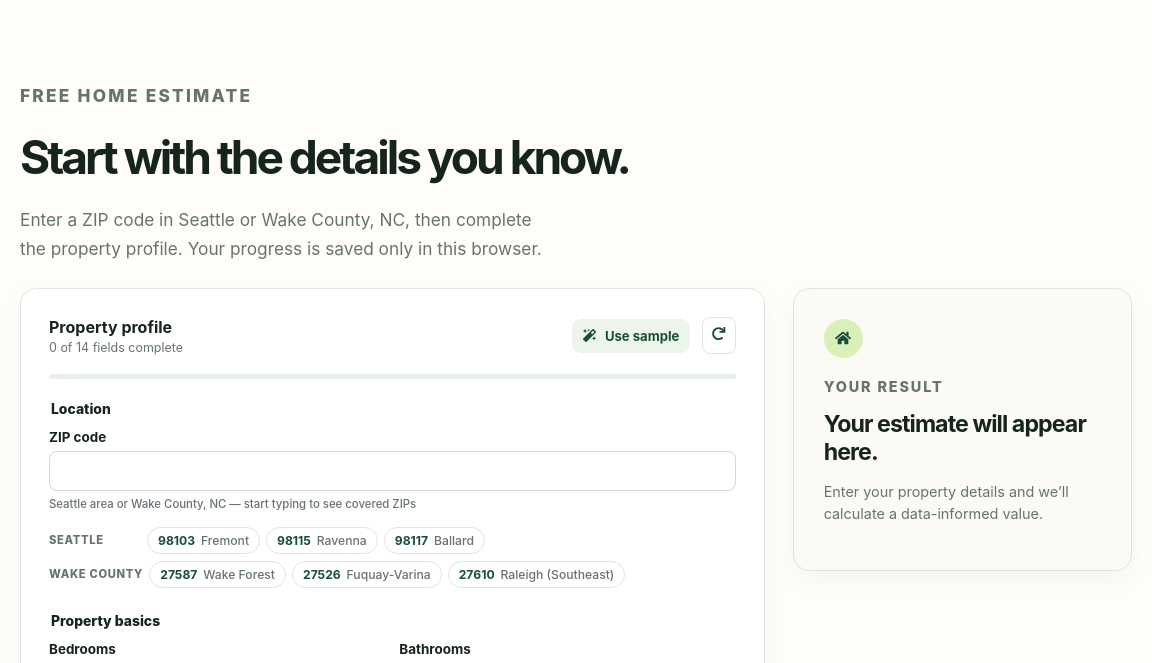
popular ZIP picks fill the ZIP, switch the market and show training coverage
Click the button with aria-label "Use ZIP 27587, Wake Forest".
click(218, 574)  # box [149, 561, 286, 588]
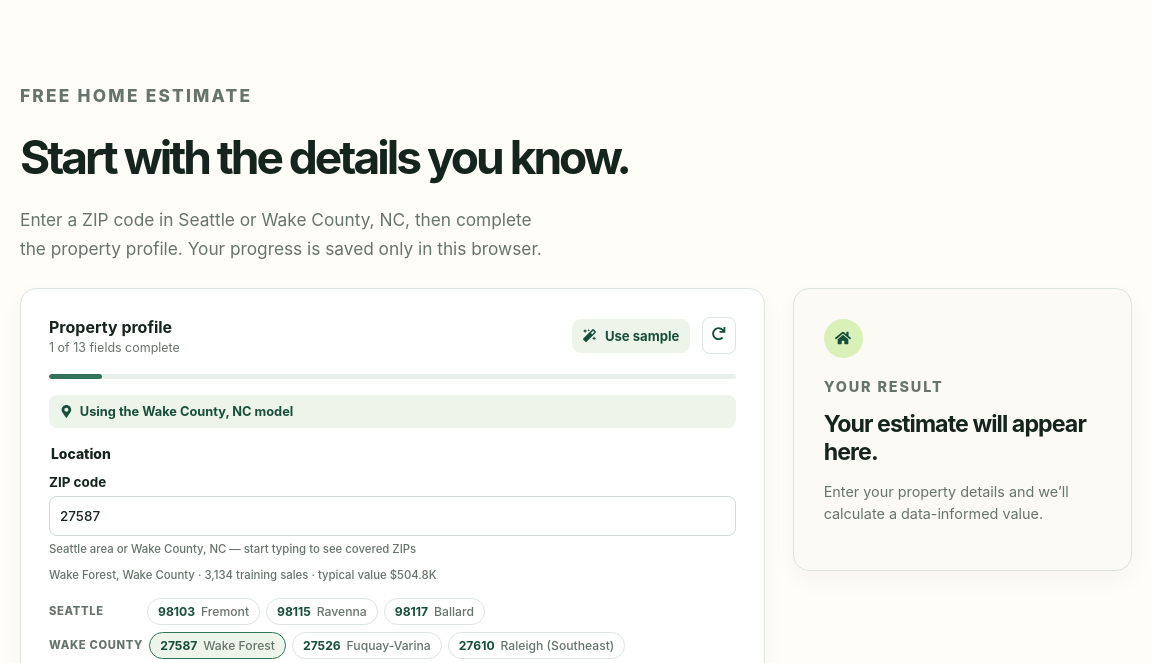
Expected: the field labelled "ZIP code" holds "27587", [49, 496, 736, 536]
Expected: the element with test id "market-note" reads "Using the Wake County, NC model", [49, 395, 736, 428]
Expected: the text with test id "zip-coverage" holds "Wake Forest, Wake County · [\\d,]+ training sales · typical value \\$", [49, 568, 436, 582]
Click the button with aria-label "Use ZIP 98103".
click(204, 611)  # box [147, 598, 260, 625]
(page scrolled)
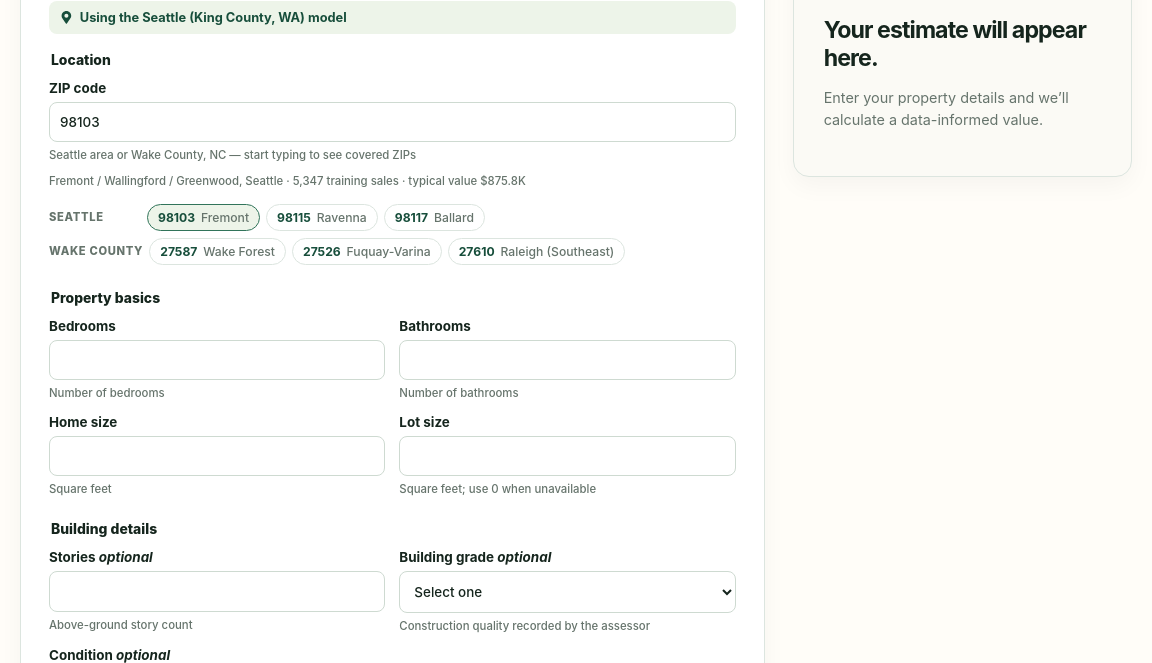
Expected: the text with test id "zip-coverage" shows "Fremont / Wallingford / Greenwood, Seattle", [49, 174, 526, 188]
Expected: the number field labelled "Bedrooms Number of bedrooms" is shown, [49, 340, 385, 380]
